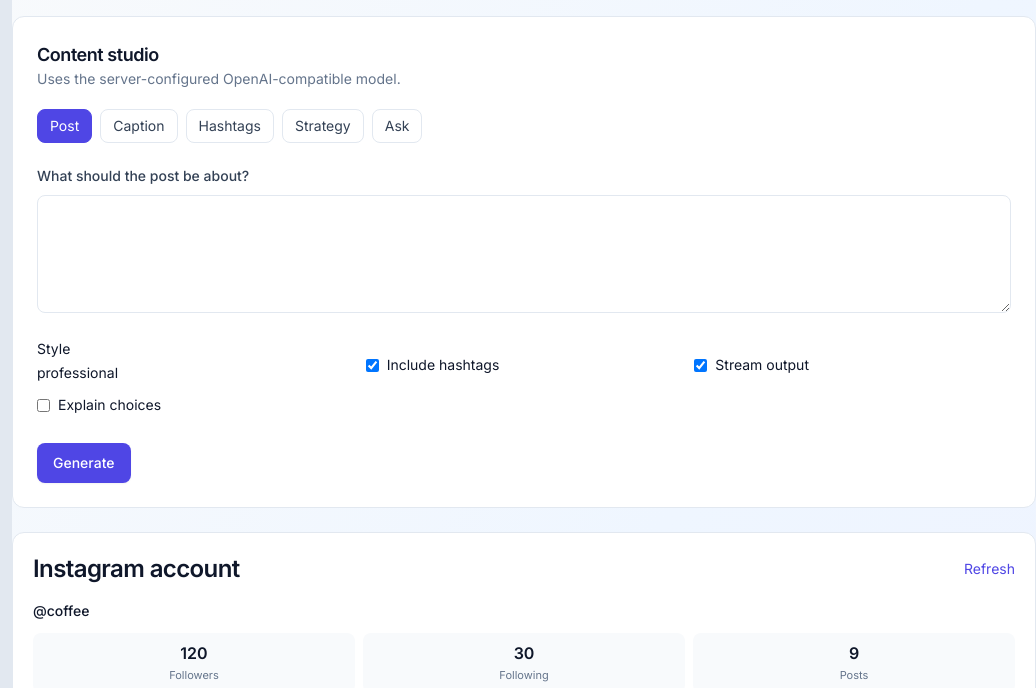
Test: InstagramAgent › shows account information and generates editable content
The image size is (1036, 688).
Expected: the text "@coffee" is shown, [33,601,90,621]
Expected: the text "120" is shown, [180,643,208,663]
Type "a new coffee roast" into the text box labelled "What should the post be about?" at (524, 254), box [37,195,1011,313]
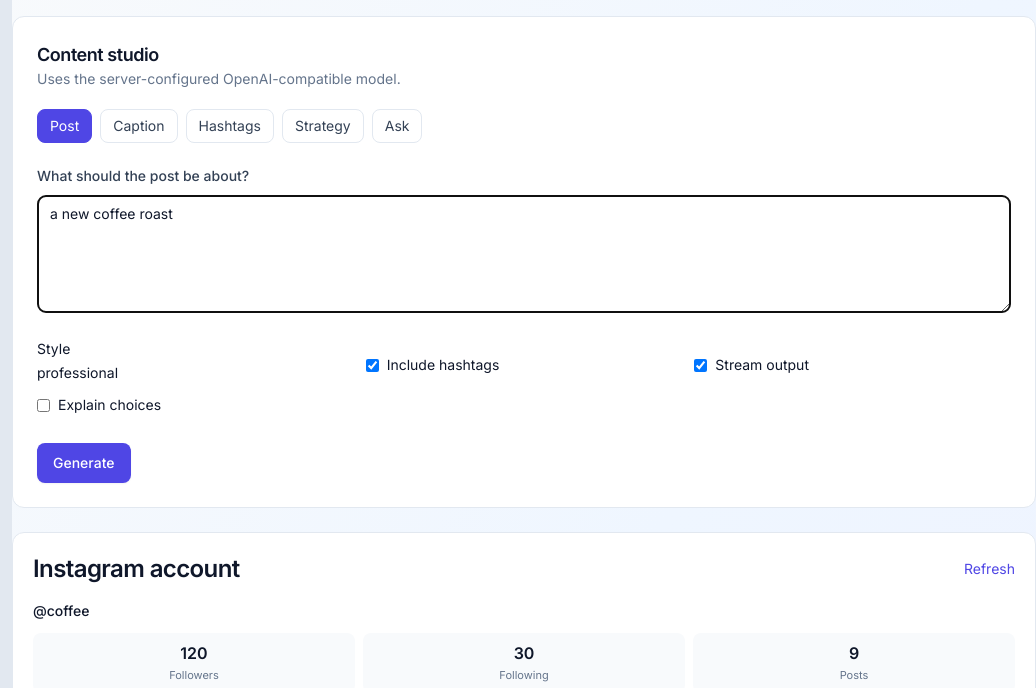
Click the checkbox labelled "Stream output" at (701, 365), box [694,358,707,372]
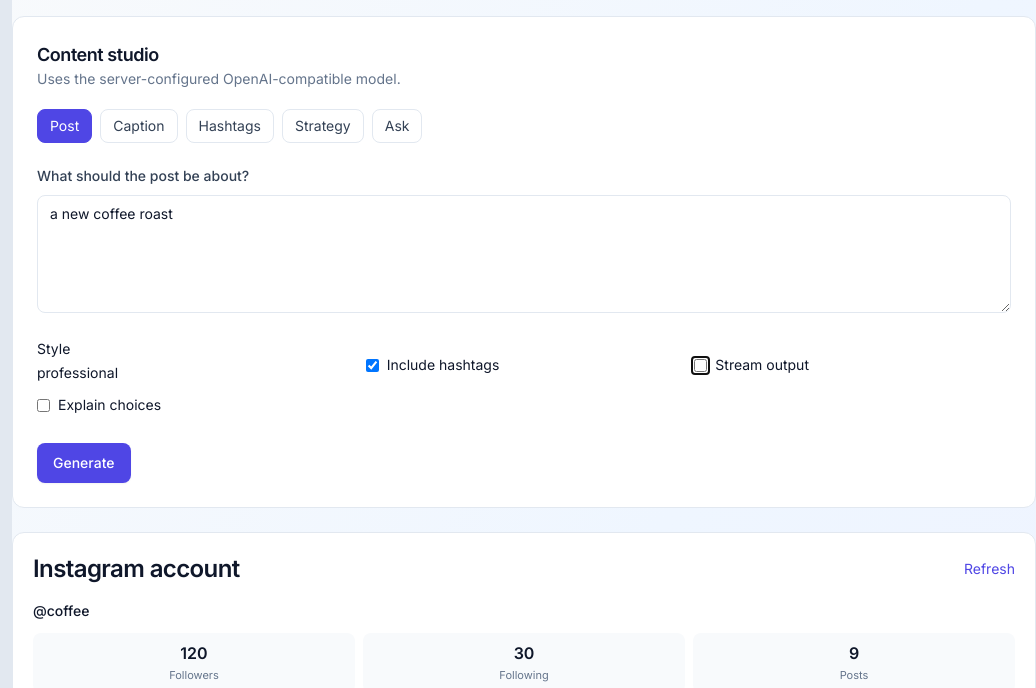
Click the button "Generate" at (84, 463), box [37,443,130,483]
(page scrolled)
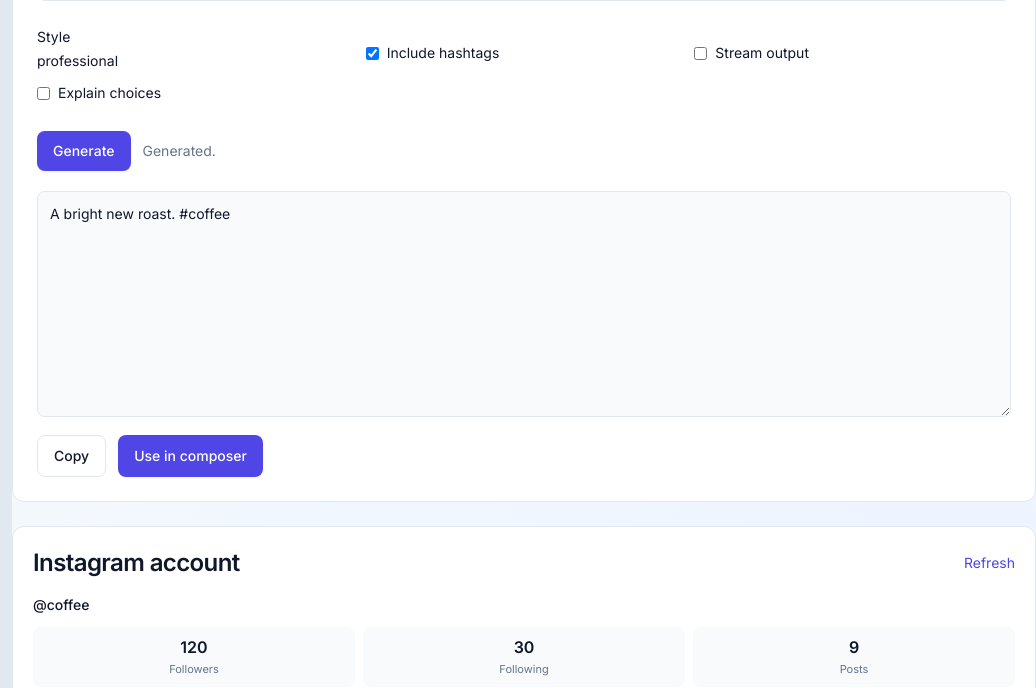
Now the text box named "Generated content" holds "A bright new roast. #coffee", box [37,191,1011,417]
